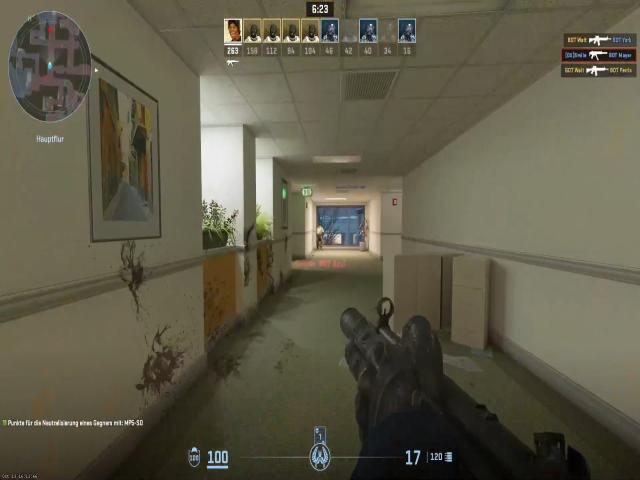T: (316, 223, 324, 246)
